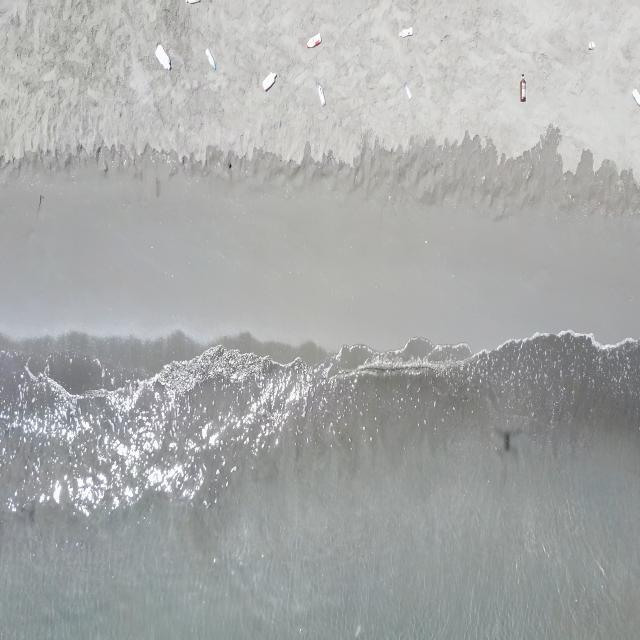Garbage: (155, 44, 169, 68), (261, 71, 276, 89), (204, 48, 215, 68), (307, 33, 320, 47), (316, 83, 324, 105), (397, 27, 412, 36), (404, 83, 411, 99), (633, 88, 639, 104), (520, 74, 523, 101), (587, 40, 595, 49), (186, 0, 199, 3)
